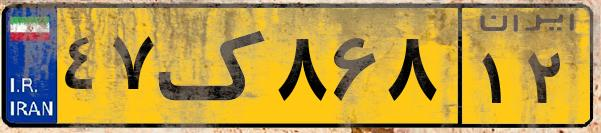1: (475, 38, 525, 113)
2: (525, 38, 570, 115)
4: (57, 26, 110, 100)
6: (330, 28, 385, 110)
7: (110, 28, 158, 98)
8: (270, 28, 330, 110), (385, 28, 445, 110)
ک: (158, 12, 270, 120)
